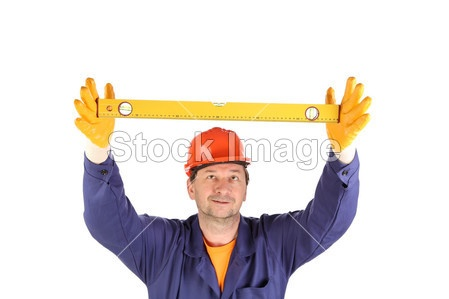red: (180, 126, 254, 217)
